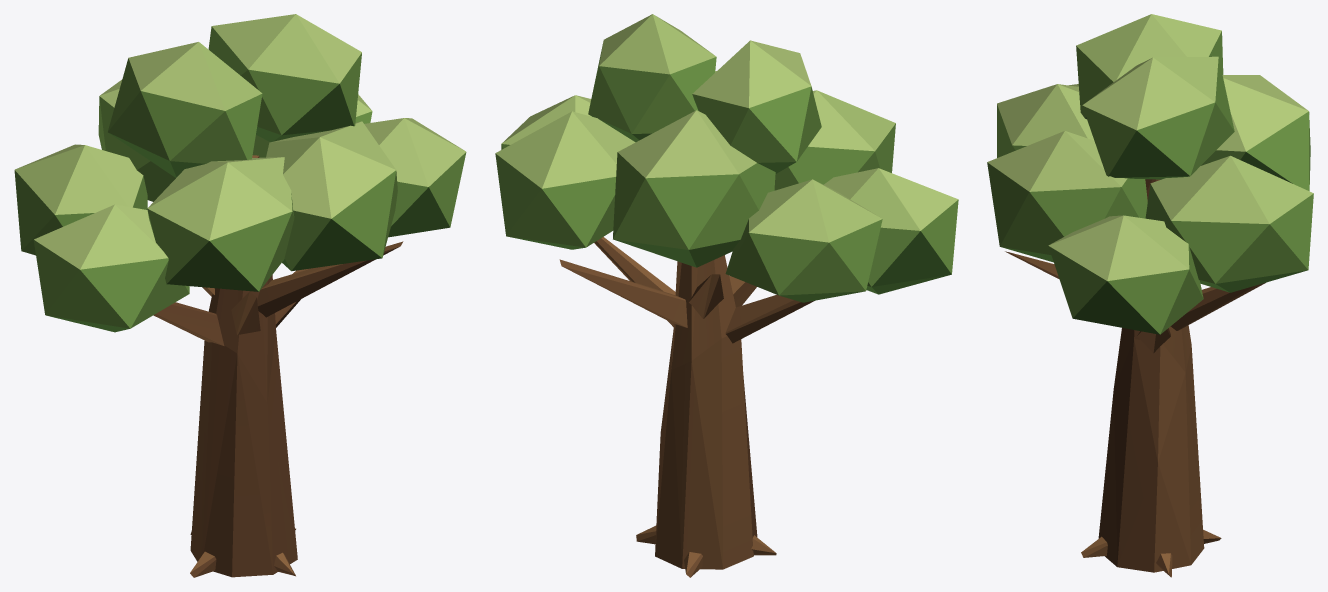
The picture shows the model from 3 angles, left to right: view 1: azimuth 30°, elevation 25°; view 2: azimuth 150°, elevation 25°; view 3: azimuth 270°, elevation 25°; orthographic projection. The views are drawn at different scales.
Visible parts, largest first — view 1: WK_Tree_Maple_MeadowRound_LOD1_Balanced; view 2: WK_Tree_Maple_MeadowRound_LOD1_Balanced; view 3: WK_Tree_Maple_MeadowRound_LOD1_Balanced.
Boxes of the visible parts, x1,y1,x2,y2 form: WK_Tree_Maple_MeadowRound_LOD1_Balanced: (14, 14, 466, 577); WK_Tree_Maple_MeadowRound_LOD1_Balanced: (495, 14, 958, 577); WK_Tree_Maple_MeadowRound_LOD1_Balanced: (987, 14, 1313, 577).
Bounding box in the file's own units: 4.93 × 5.85 × 3.33.
